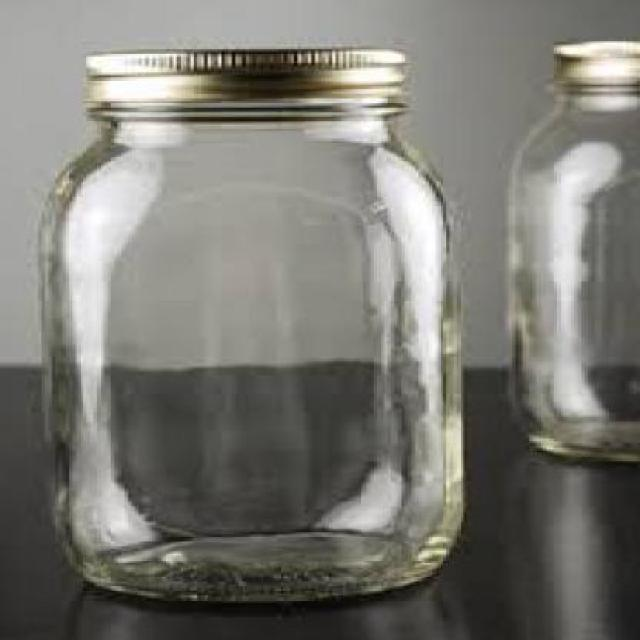GLASS: (31, 103, 460, 603), (501, 80, 637, 462)
METAL: (80, 45, 406, 106), (546, 36, 637, 84)
